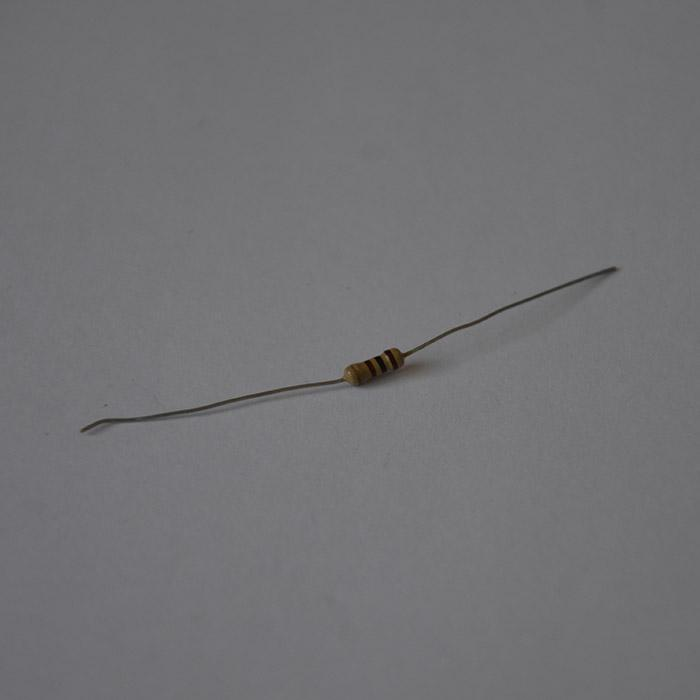resistor: (345, 346, 406, 386)
